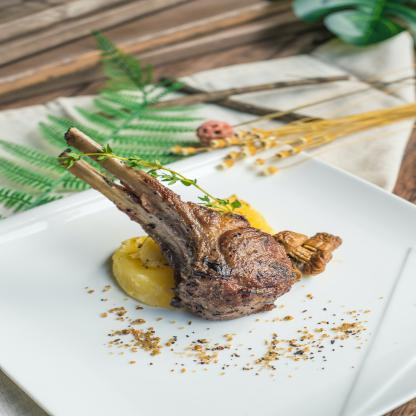Carne: (165, 204, 307, 313)
